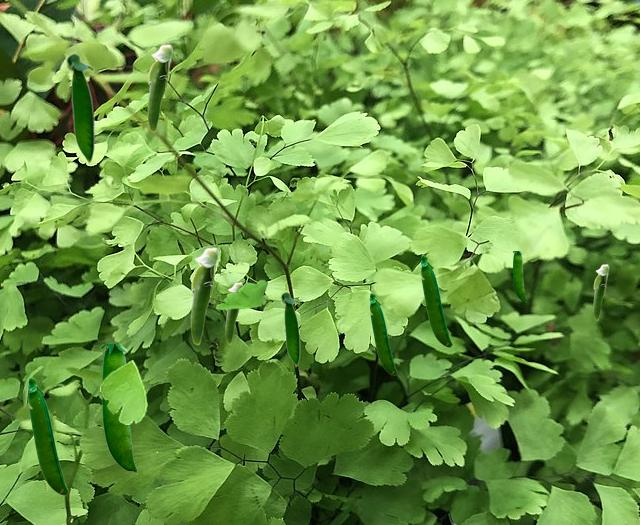pea: (27, 376, 67, 494), (102, 344, 136, 473), (65, 52, 94, 165), (420, 254, 451, 346), (190, 247, 218, 344), (369, 292, 396, 374), (147, 44, 172, 131), (280, 291, 299, 367), (225, 282, 242, 343), (593, 264, 608, 319), (513, 251, 525, 301)
